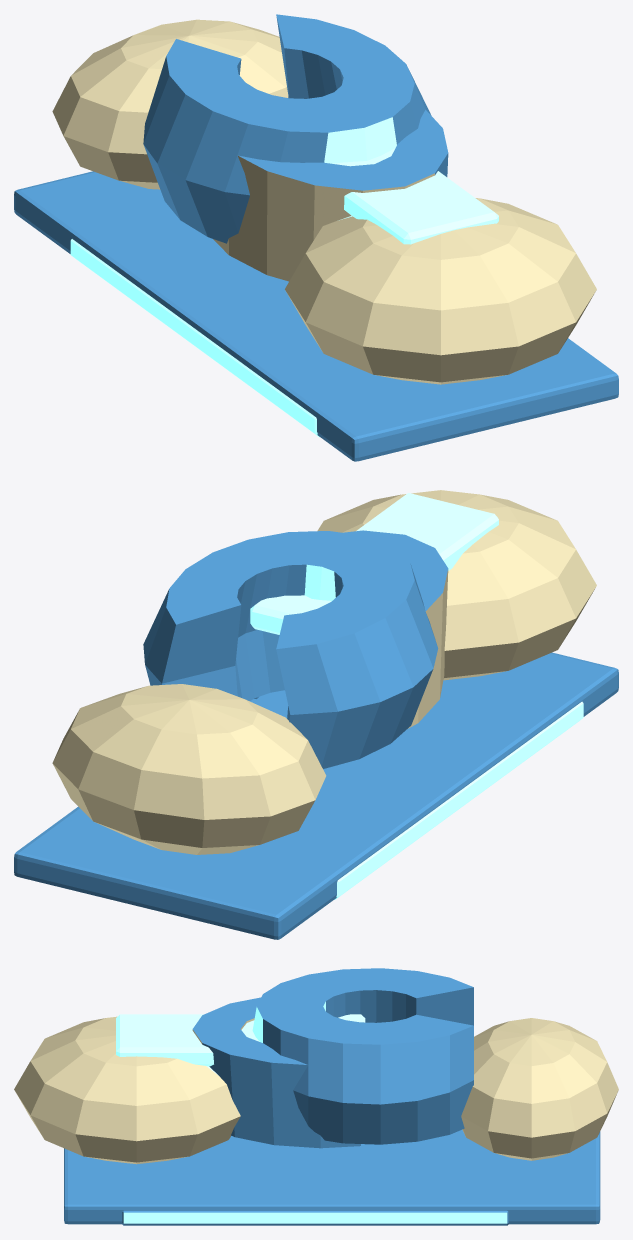
The model's file is left_boot.glb.
The picture shows the model from 3 angles, top to bottom: view 1: azimuth 30°, elevation 25°; view 2: azimuth 150°, elevation 25°; view 3: azimuth 270°, elevation 25°; orthographic projection. The views are drawn at different scales.
Visible parts, largest first — view 1: armor_left_boot_v001; view 2: armor_left_boot_v001; view 3: armor_left_boot_v001.
Boxes of the visible parts, x1=… form: armor_left_boot_v001: x1=14, y1=14, x2=618, y2=461; armor_left_boot_v001: x1=14, y1=490, x2=618, y2=939; armor_left_boot_v001: x1=14, y1=968, x2=618, y2=1225.
Bounding box in the file's own units: 0.118 × 0.09 × 0.291.
